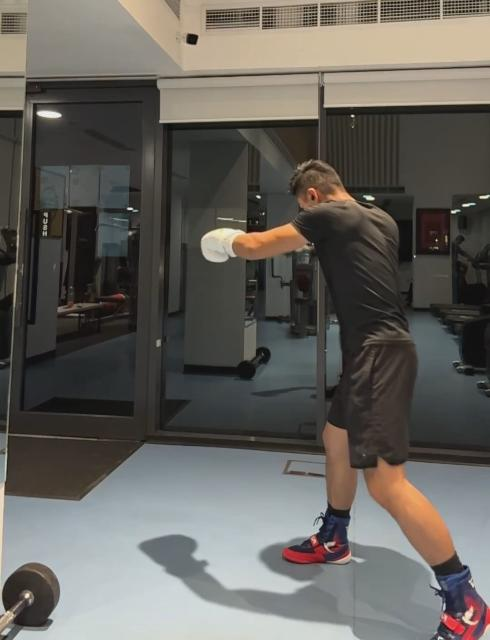punch: (199, 158, 490, 640)
